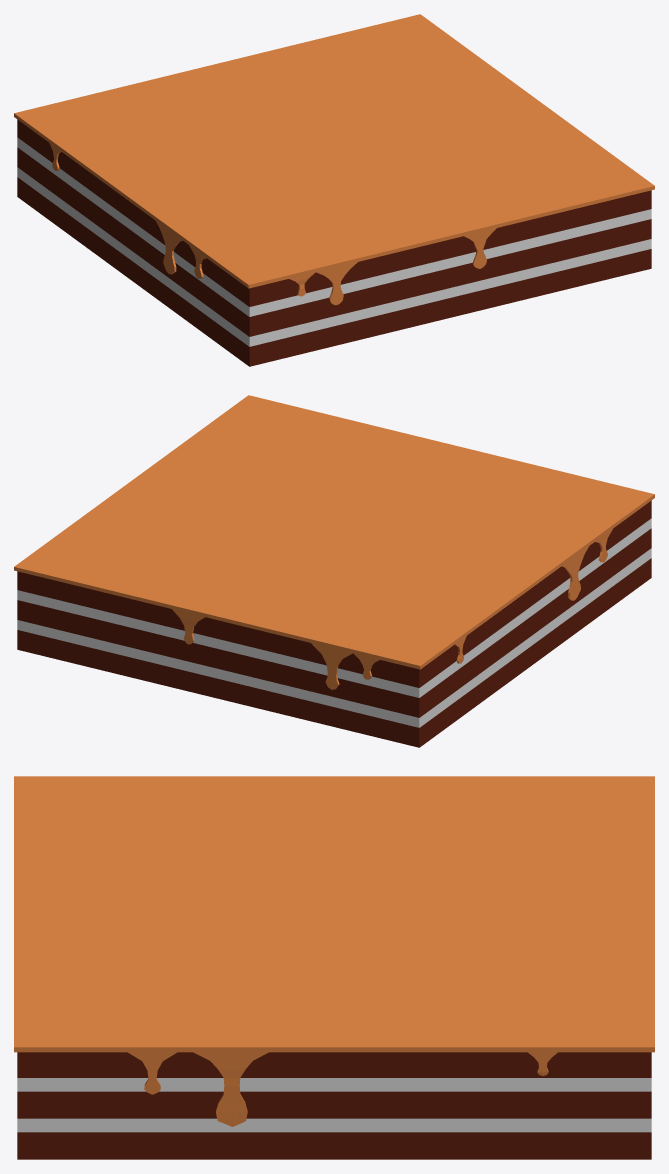
Rendered from cakeLayer.fbx.
3 renders of one model, top to bottom at view 1: azimuth 30°, elevation 25°; view 2: azimuth 150°, elevation 25°; view 3: azimuth 270°, elevation 25°, orthographic. The views are drawn at different scales.
Parts seen in each view (by area): view 1: Cube.011, BiggestLayer, Cube.008, Cube.006, Cube.009, Cube.007; view 2: Cube.011, BiggestLayer, Cube.008, Cube.006, Cube.009, Cube.007; view 3: Cube.011, BiggestLayer, Cube.008, Cube.006, Cube.009, Cube.007.
Boxes of the visible parts, x1=… form: Cube.011: x1=14, y1=14, x2=654, y2=305; BiggestLayer: x1=17, y1=177, x2=651, y2=366; Cube.008: x1=17, y1=147, x2=651, y2=336; Cube.006: x1=17, y1=119, x2=651, y2=306; Cube.009: x1=17, y1=167, x2=651, y2=346; Cube.007: x1=17, y1=137, x2=651, y2=316; Cube.011: x1=14, y1=395, x2=654, y2=689; BiggestLayer: x1=17, y1=558, x2=651, y2=747; Cube.008: x1=17, y1=528, x2=651, y2=717; Cube.006: x1=17, y1=500, x2=651, y2=687; Cube.009: x1=17, y1=548, x2=651, y2=727; Cube.007: x1=17, y1=518, x2=651, y2=697; Cube.011: x1=14, y1=776, x2=654, y2=1126; BiggestLayer: x1=17, y1=1132, x2=651, y2=1159; Cube.008: x1=17, y1=1091, x2=651, y2=1118; Cube.006: x1=17, y1=1052, x2=651, y2=1077; Cube.009: x1=17, y1=1118, x2=651, y2=1132; Cube.007: x1=17, y1=1078, x2=651, y2=1091.
Bounding box in the file's own units: 4273 × 837 × 4274.
